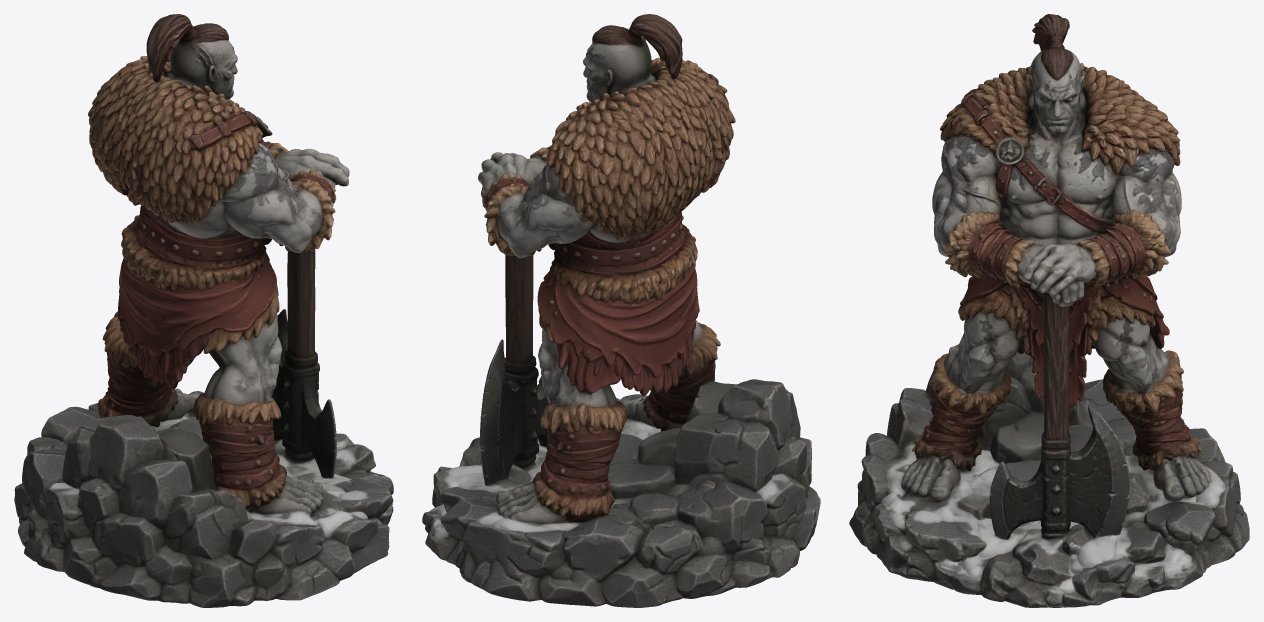
File: compress_mgmj0ceobvt3k2ak.glb
3 renders of one model, left to right at view 1: azimuth 30°, elevation 25°; view 2: azimuth 150°, elevation 25°; view 3: azimuth 270°, elevation 25°, orthographic. The views are drawn at different scales.
Parts seen in each view (by area): view 1: tripo_node_164977ea-f8d5-412d-8f12-2a7d29c09b53; view 2: tripo_node_164977ea-f8d5-412d-8f12-2a7d29c09b53; view 3: tripo_node_164977ea-f8d5-412d-8f12-2a7d29c09b53.
Part boxes in pixels (<box>): tripo_node_164977ea-f8d5-412d-8f12-2a7d29c09b53: <box>14,14,393,607</box>; tripo_node_164977ea-f8d5-412d-8f12-2a7d29c09b53: <box>422,14,820,607</box>; tripo_node_164977ea-f8d5-412d-8f12-2a7d29c09b53: <box>849,14,1249,607</box>.
Bounding box in the file's own units: 0.6966 × 1 × 0.7283.
Materials: 1 (1 with a texture image).
